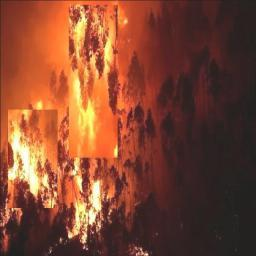Low smoke: (0, 0, 255, 226)
Medium fire: (0, 0, 125, 231)
